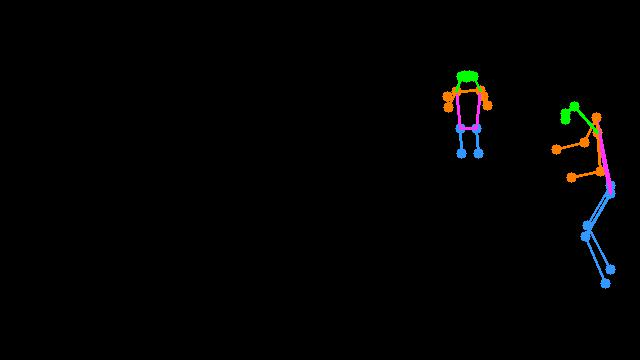normal: (430, 63, 500, 168)
